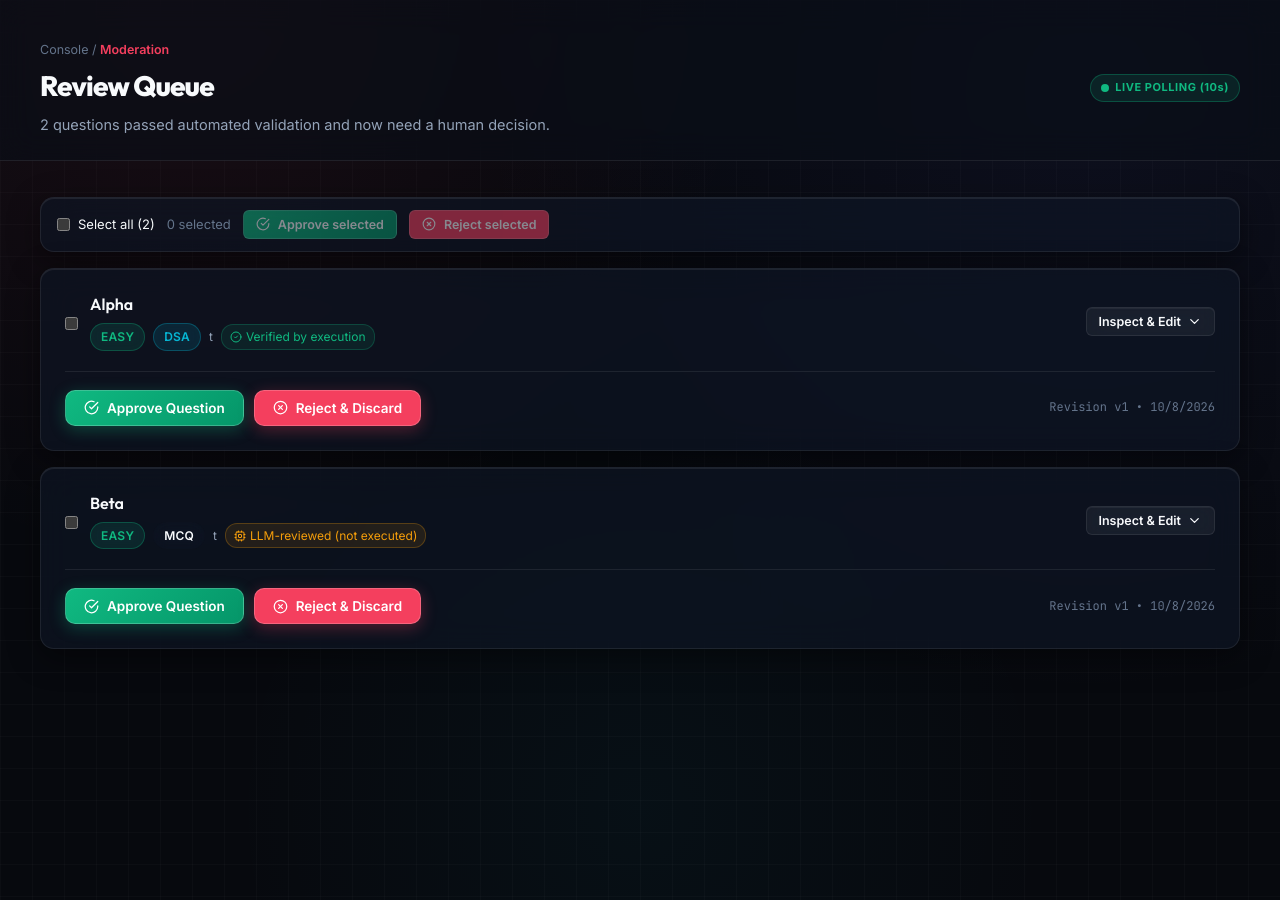
Test: ReviewPage bulk actions › approves the selected questions in one request and reports the result
The width and height of the screenshot is (1280, 900).
Expected: the text "Verified by execution" is shown, [221,324,375,350]
Expected: the text "LLM-reviewed (not executed)" is shown, [225,523,426,548]
Click the checkbox named "Select Beta" at (72, 522), box [65,516,78,529]
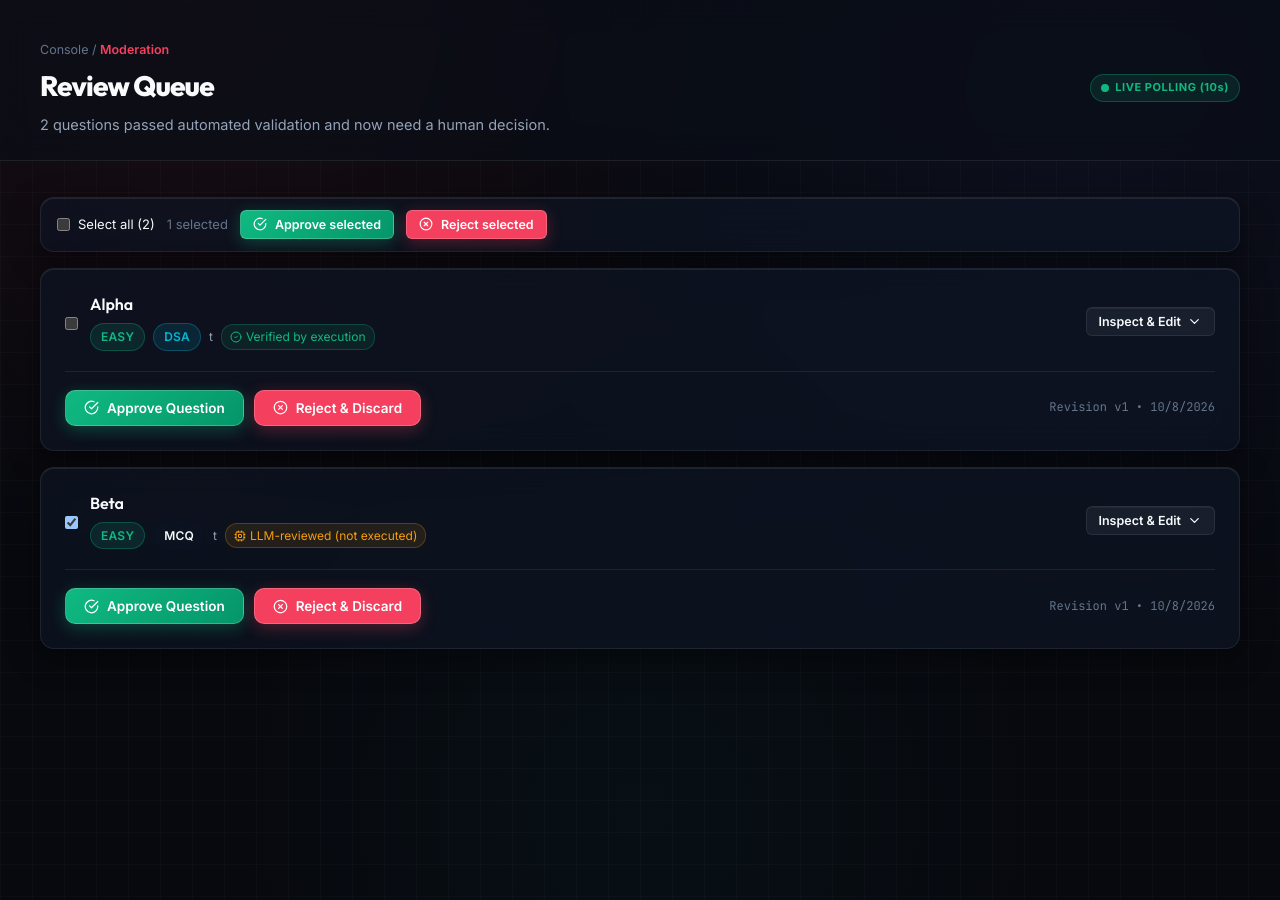
Click the button "Approve selected" at (317, 224), box [240,210,394,239]
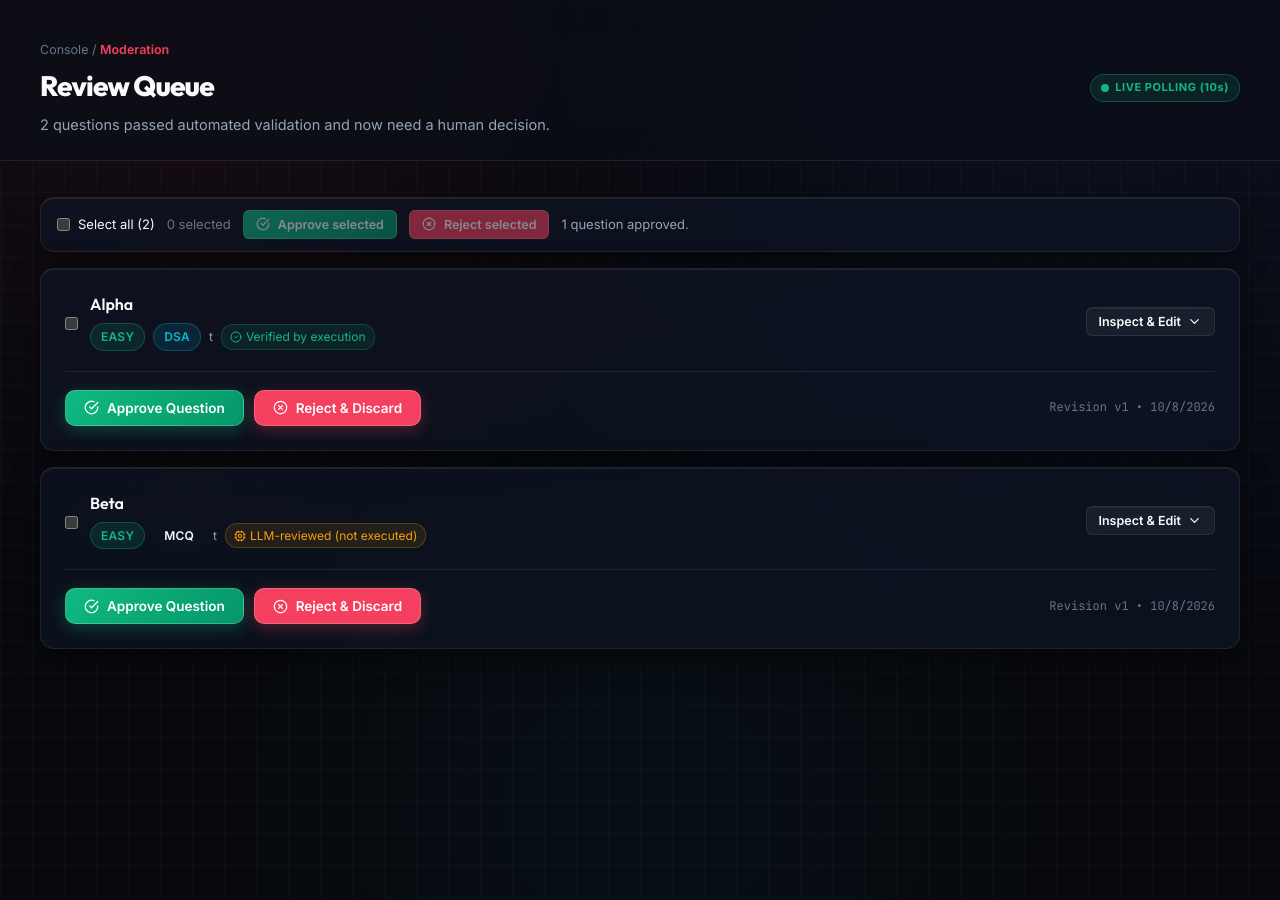
Expected: the message reads "1 question approved.", [562,216,689,232]
